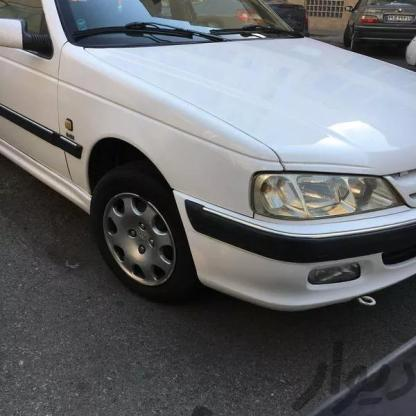Car: (0, 0, 416, 313), (183, 0, 322, 43), (327, 0, 415, 67)
